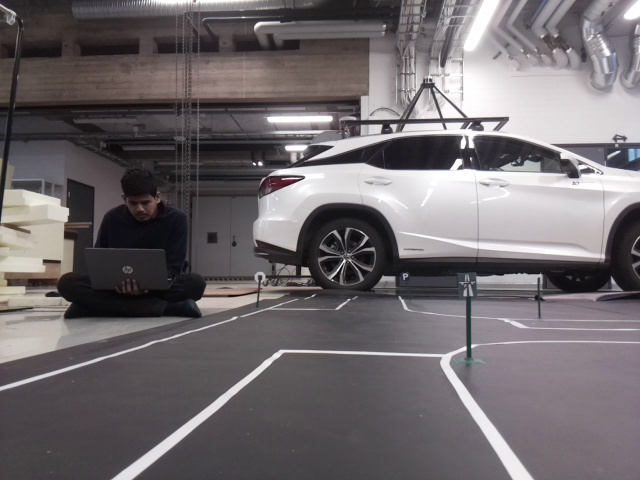HighwayExit: (458, 273, 475, 296)
